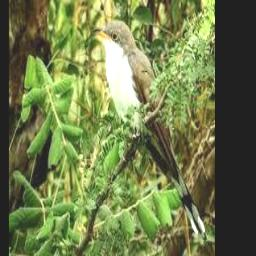Cuckoo: (91, 21, 206, 235)
